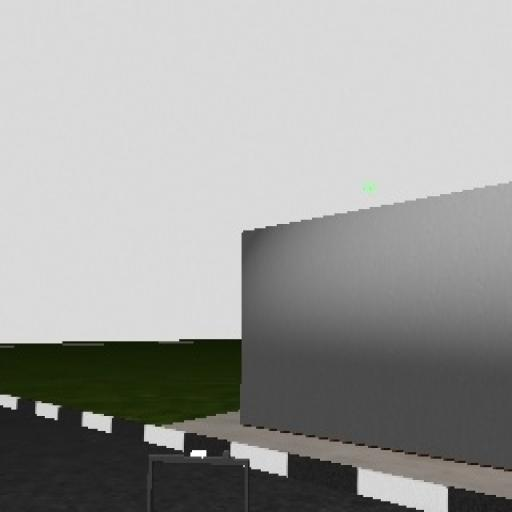huskya200: (142, 443, 251, 512)
